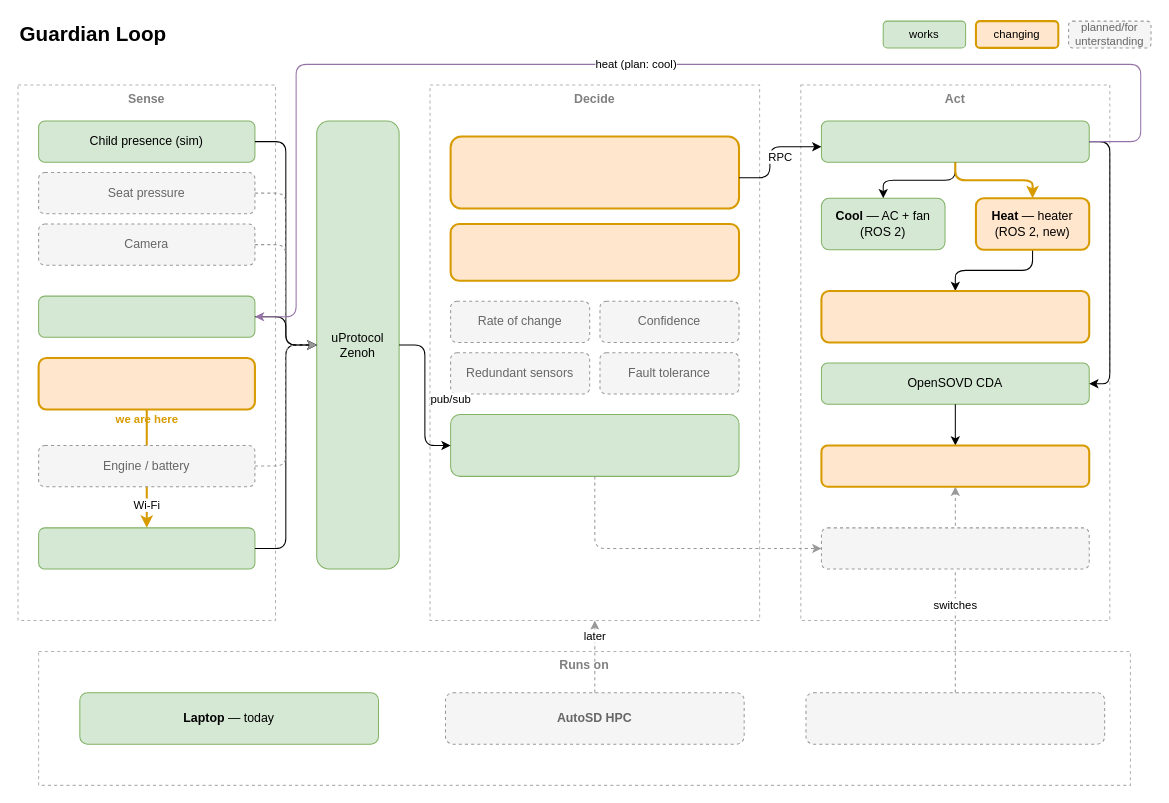
The diagram is 1169 pixels wide and 803 high, and some of its shapes have lost their labels. The shapes that lost their labels are listed below. From the top down, each one's centre as x and y in pixels, then its label:
pixel 954 141: Actuation Adapter
pixel 594 172: Climate strategy too hot → cool too cold → heat
pixel 594 251: Thresholds hot and cold, from config
pixel 146 316: Temperature (sim)
pixel 955 316: ross2 use to connect to gazebo (for simulation)
pixel 146 383: AZ3166 + ThreadX real temperature
pixel 594 445: State machine CLEAR → MONITORING → WARNING → CRITICAL → MITIGATING
pixel 955 465: OpenBSW working on nxp
pixel 146 548: SOME/IP bridge
pixel 954 548: eCall (AutoSD feature)
pixel 955 718: openDuT
